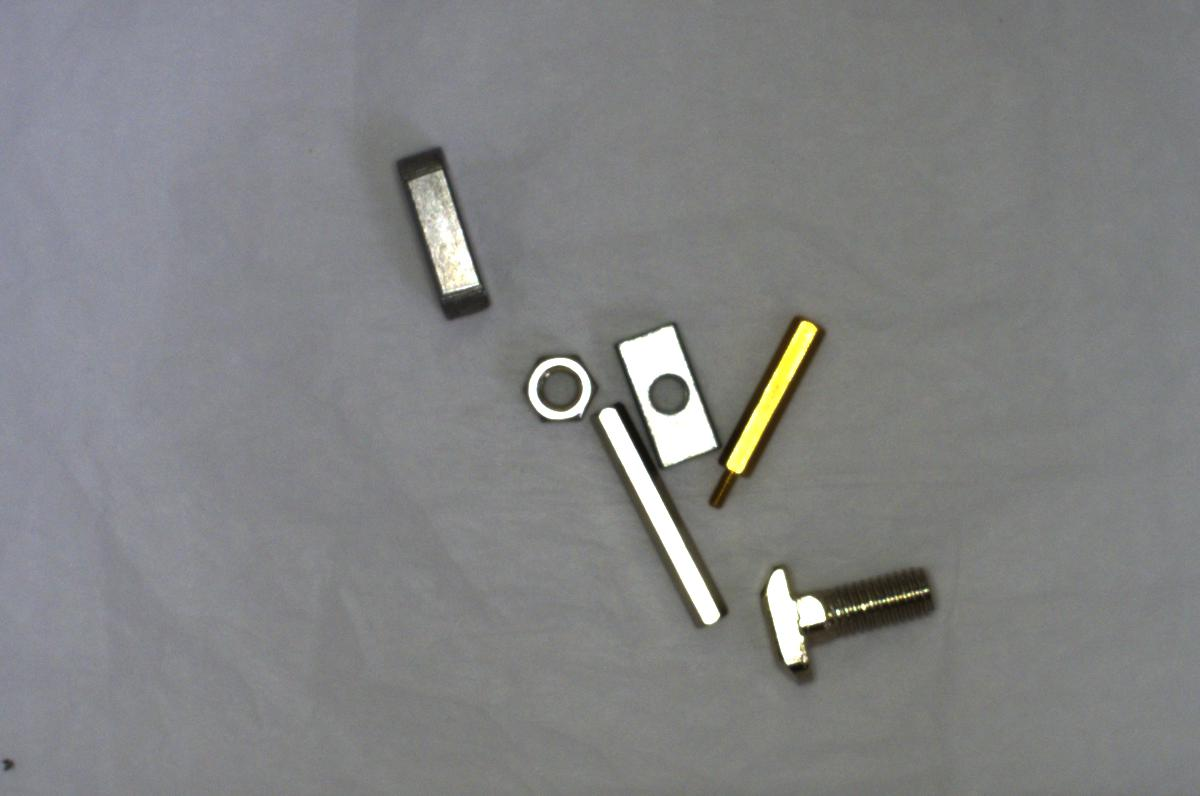Double hexagonal column: (595, 394, 725, 630)
Hexagon nut: (511, 341, 604, 434)
Hexagon pillar: (697, 309, 830, 502)
Keybar: (385, 141, 492, 328)
Rectangular nut: (614, 319, 721, 463)
T-shaped screw: (750, 555, 954, 682)
